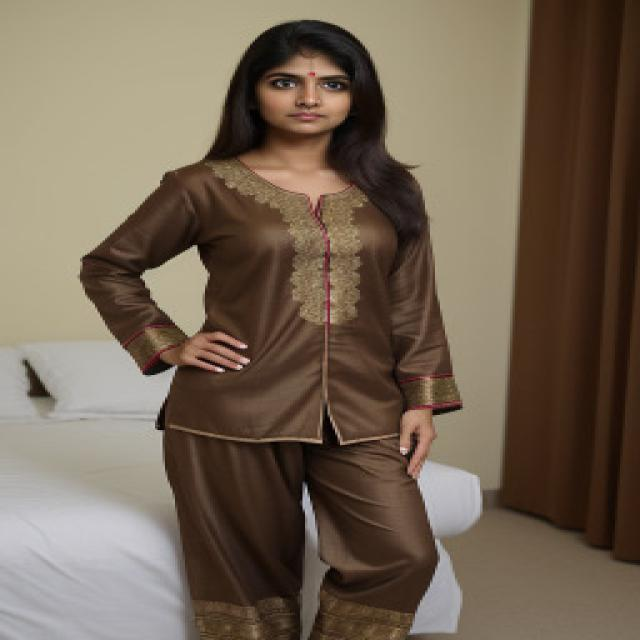Ai human 2: (64, 6, 487, 640)
